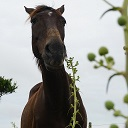caballo: (15, 3, 91, 127)
